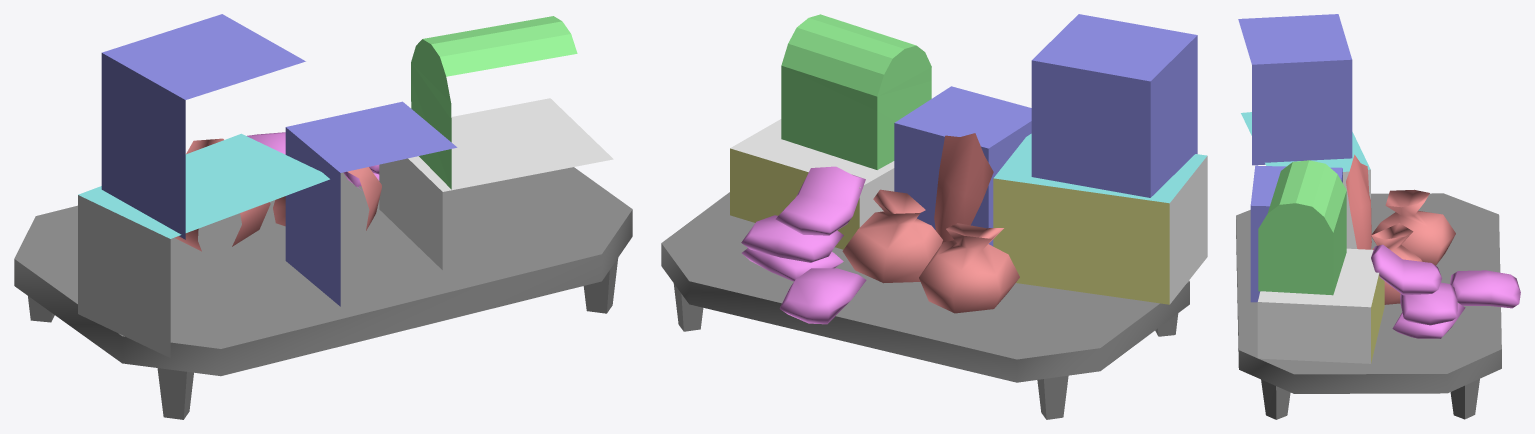
Rendered from L2fortress_01_S__fort01_command_in_obj07.gltf.
3 renders of one model, left to right at view 1: azimuth 30°, elevation 25°; view 2: azimuth 150°, elevation 25°; view 3: azimuth 270°, elevation 25°, orthographic. The views are drawn at different scales.
Visible parts, largest first — view 1: fort01_command_in_obj07; view 2: fort01_command_in_obj07; view 3: fort01_command_in_obj07.
Part boxes in pixels (box(x1,y1,x2,y2)): fort01_command_in_obj07: box(14, 14, 632, 419); fort01_command_in_obj07: box(661, 14, 1207, 419); fort01_command_in_obj07: box(1236, 14, 1520, 419).
Size of the model in its own units: 1.19 by 0.7288 by 0.779.
